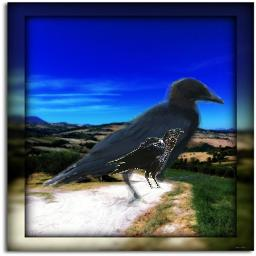Crow: (42, 77, 224, 207), (106, 128, 184, 189)
